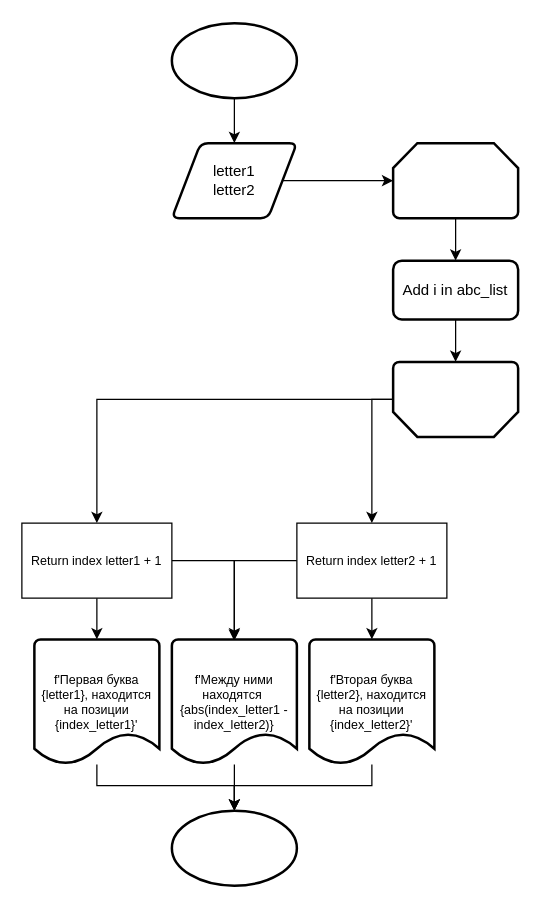
Image size: 541x908. Some labels were removed from this diagram. Here are the shapes that lost their labels. From the top down, the centre of each, then its label:
At pixel 234 60: "Начало".
At pixel 455 180: "Цикл i от A до Z".
At pixel 455 399: "i = i + 1 Цикл i".
At pixel 234 847: "Конец".
